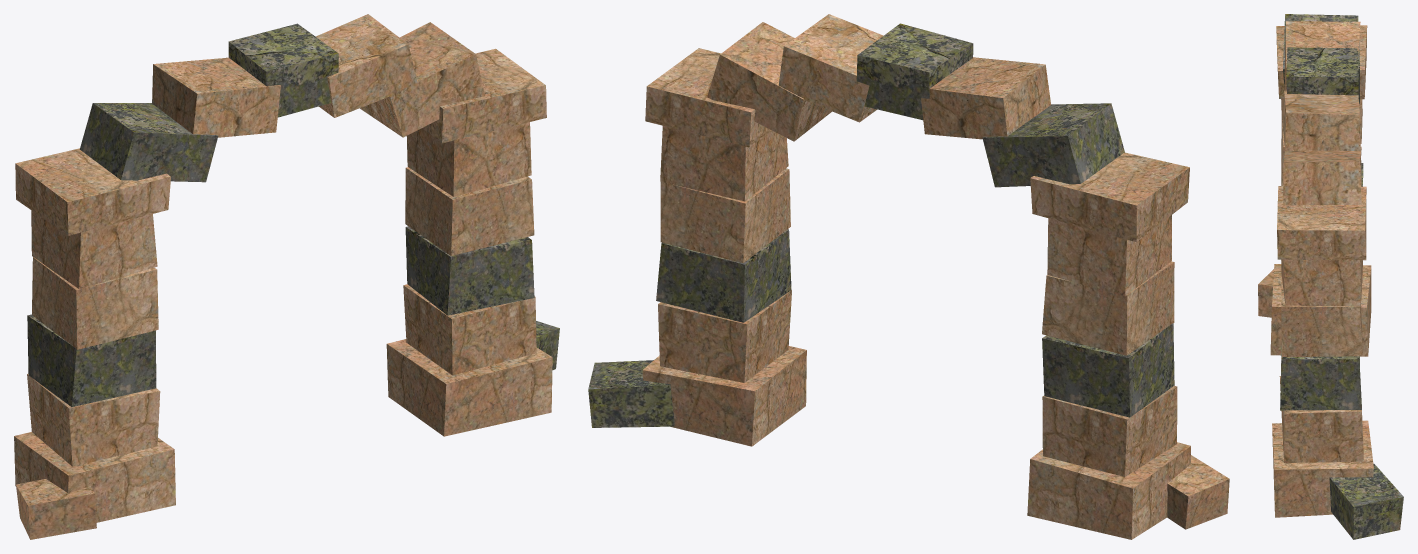
Rendered from ruinas_arco.glb.
3 views of the same model, side by side, from view 1: azimuth 30°, elevation 25°; view 2: azimuth 150°, elevation 25°; view 3: azimuth 270°, elevation 25° (orthographic). The views are drawn at different scales.
Visible parts, largest first — view 1: RuinasArco; view 2: RuinasArco; view 3: RuinasArco.
Boxes of the visible parts, bbox=[...] form: RuinasArco: bbox=[14, 14, 559, 539]; RuinasArco: bbox=[588, 14, 1229, 539]; RuinasArco: bbox=[1258, 14, 1403, 539].
Size of the model in its own units: 6.28 by 4.24 by 1.58.
2 materials, 2 textured.
